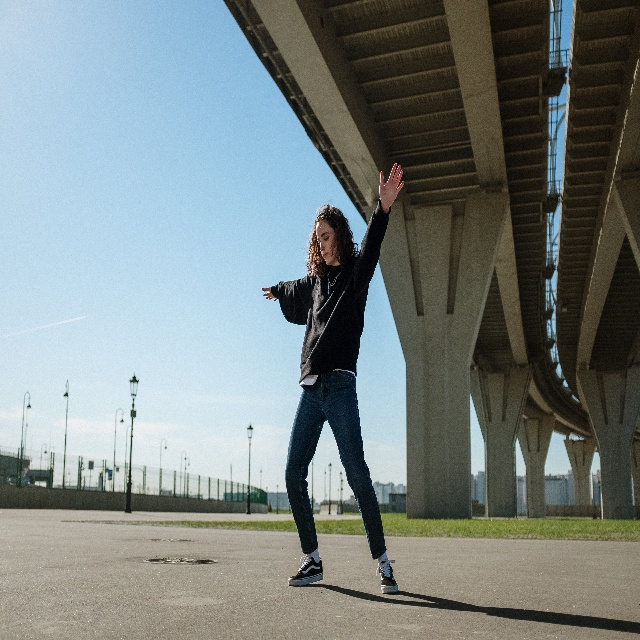Sin_guantes: (379, 162, 404, 209), (261, 286, 277, 301)
